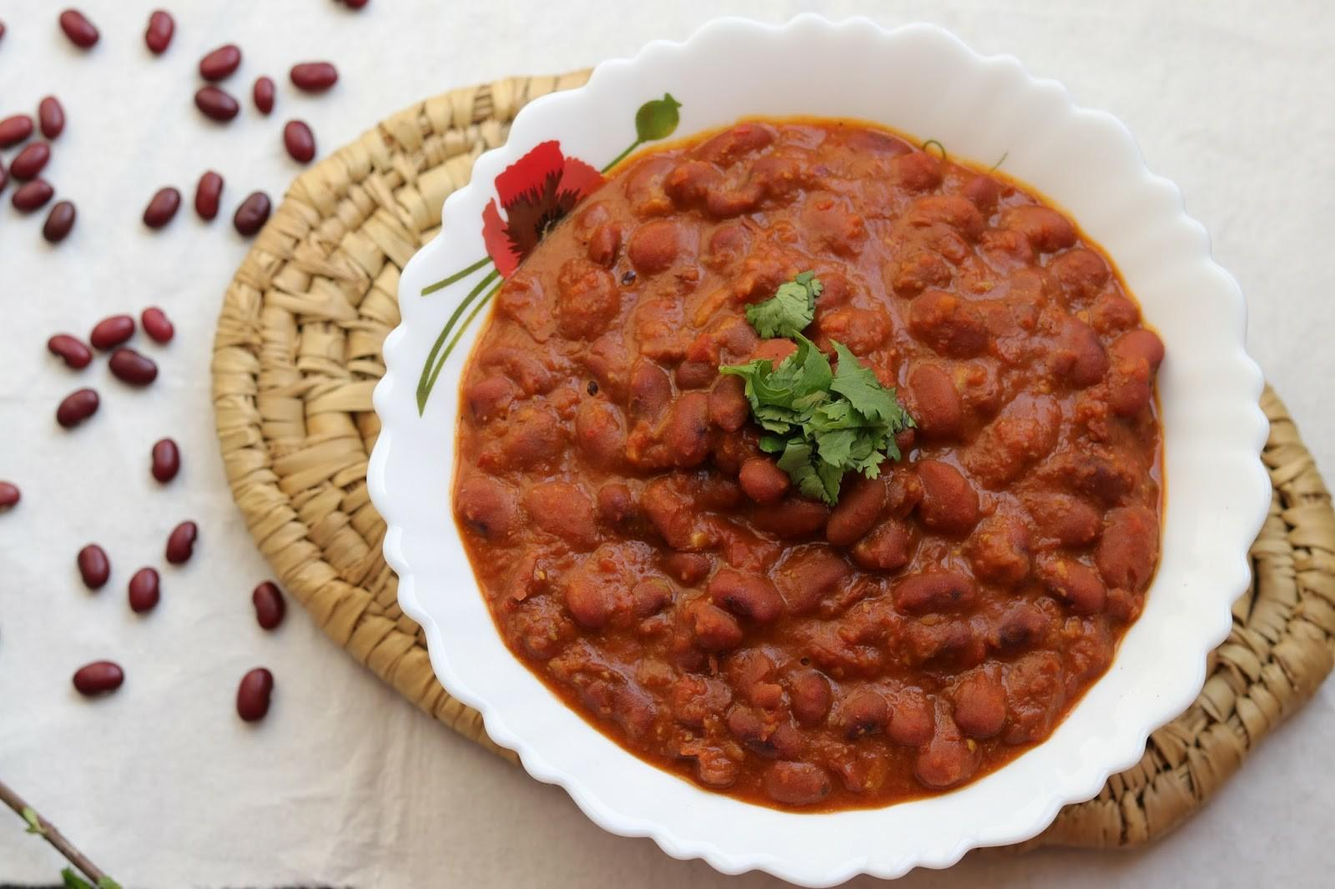RajmaCurry: (452, 120, 1170, 810)
